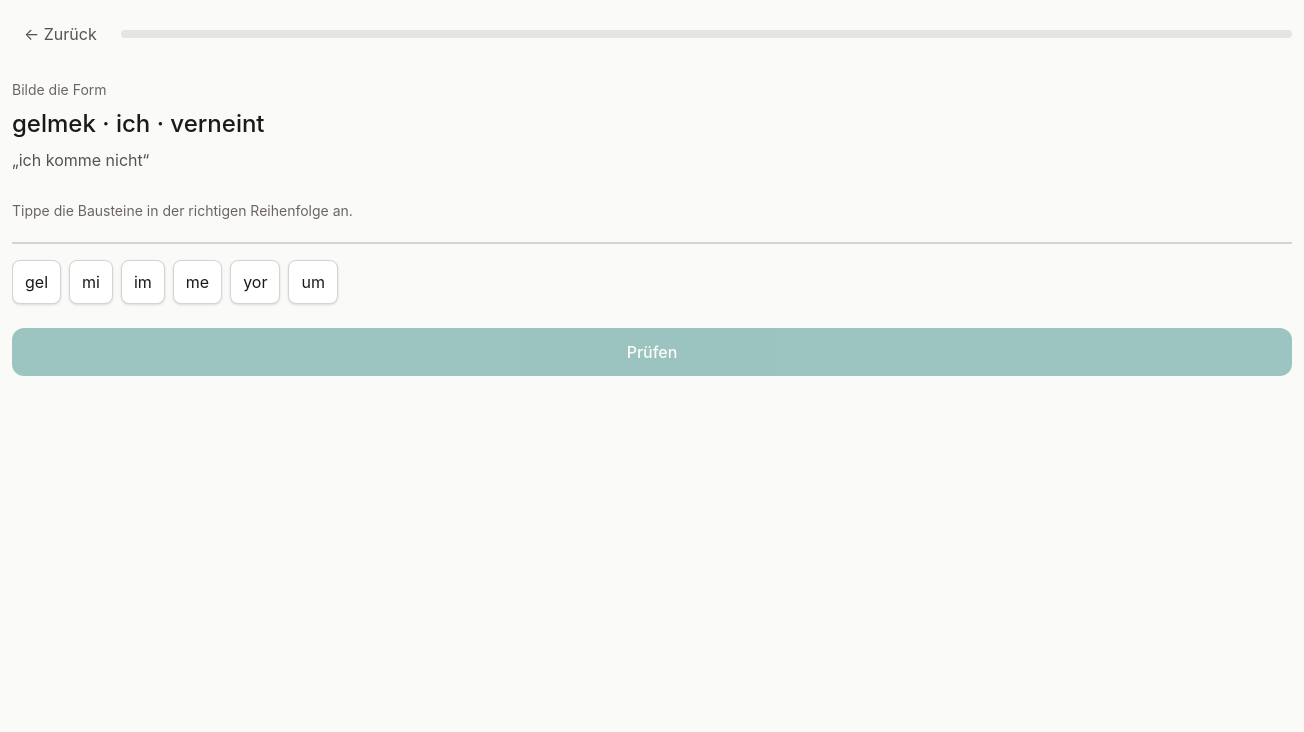
it: LessonRunner › Konjugation: verneinte Form bauen und Verengung begründen
expect the text "gelmek · ich · verneint" is shown: met, box [12, 109, 264, 138]
Click the button "gel" at (36, 282), box [12, 260, 61, 304]
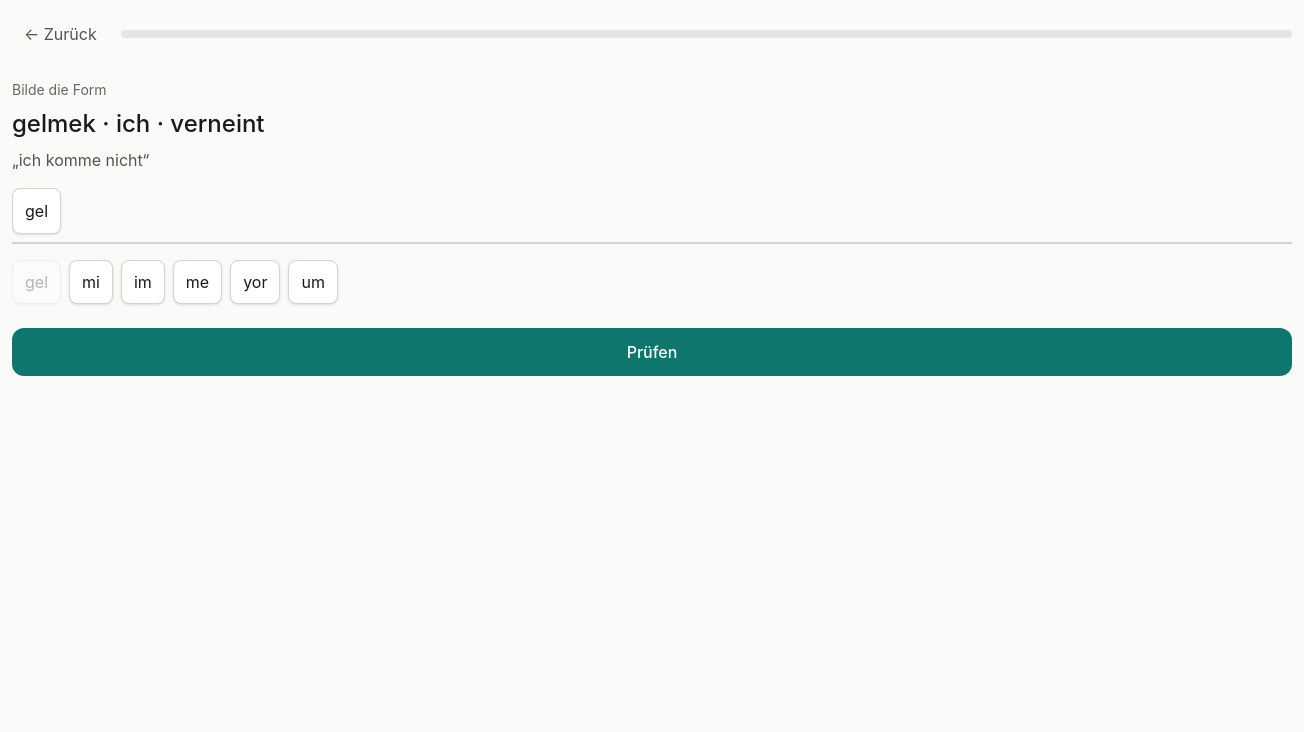
Click the button "mi" at (91, 282), box [69, 260, 113, 304]
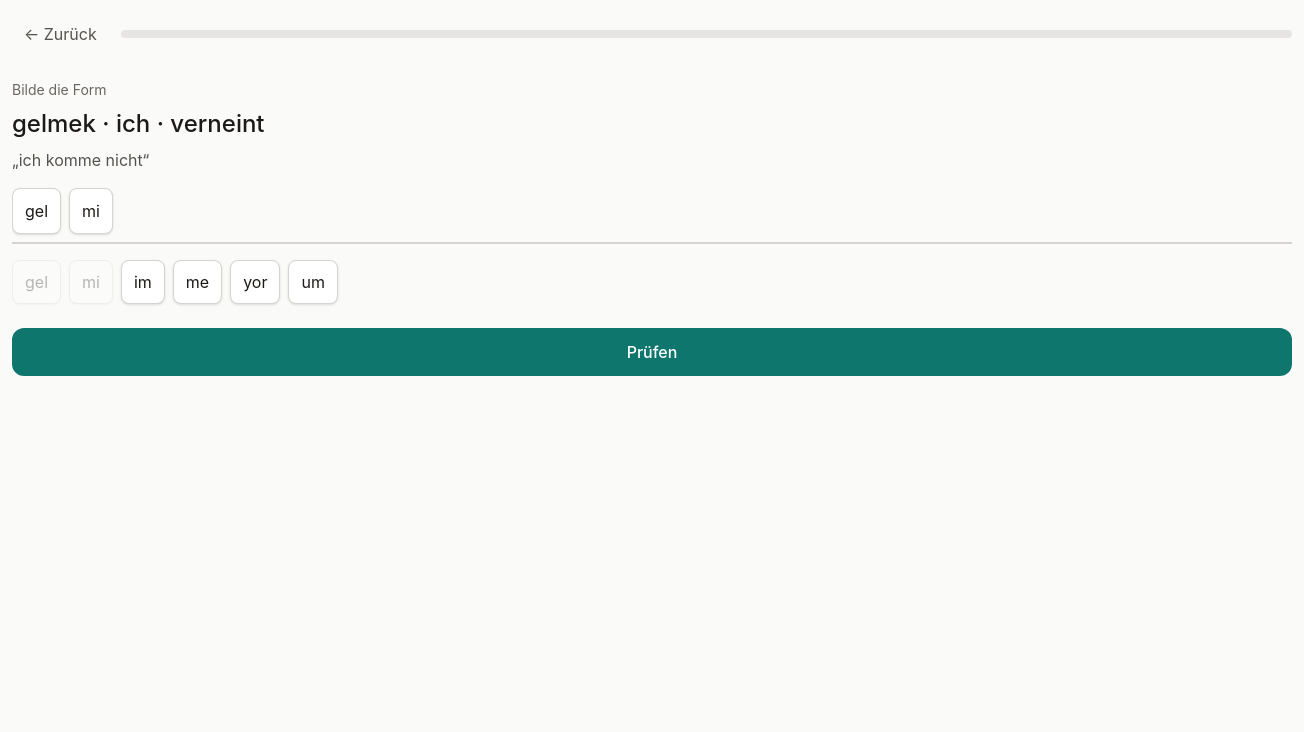
Click the button "yor" at (255, 282), box [230, 260, 280, 304]
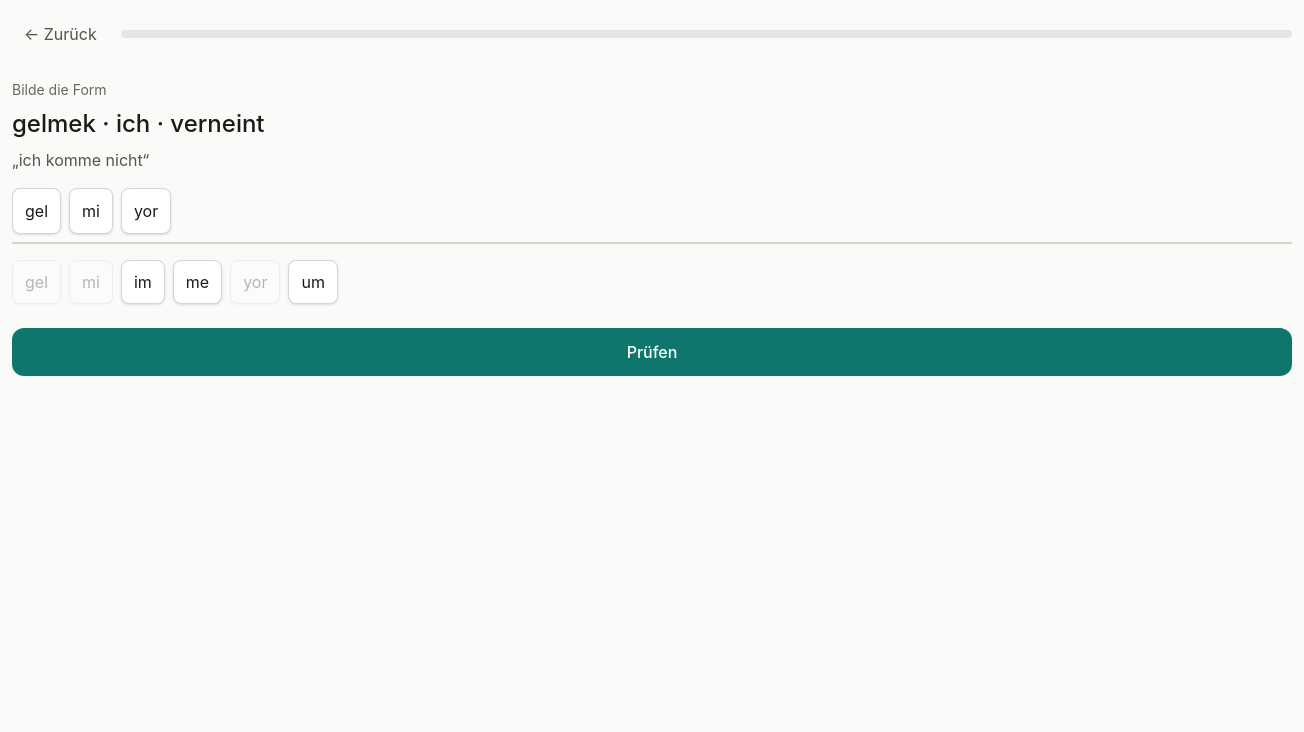
Click the button "um" at (313, 282), box [288, 260, 338, 304]
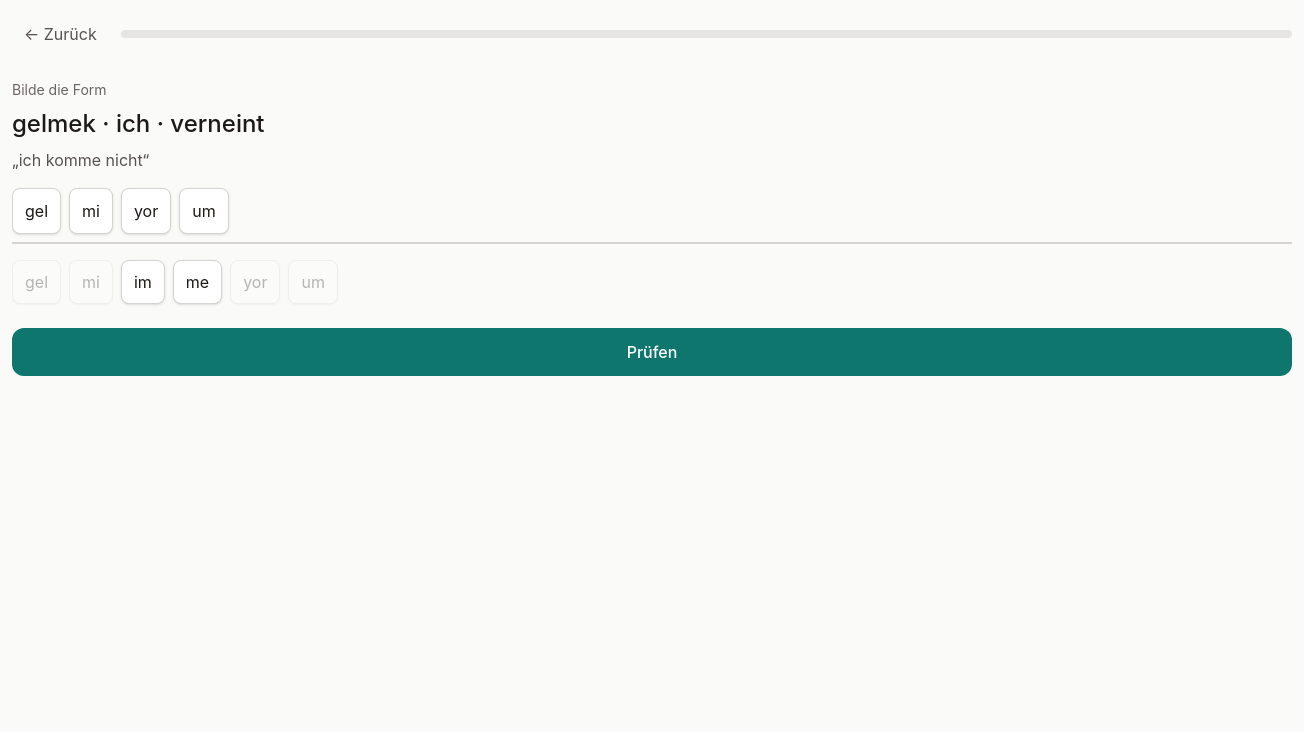
Click the button "Prüfen" at (652, 352), box [12, 328, 1292, 376]
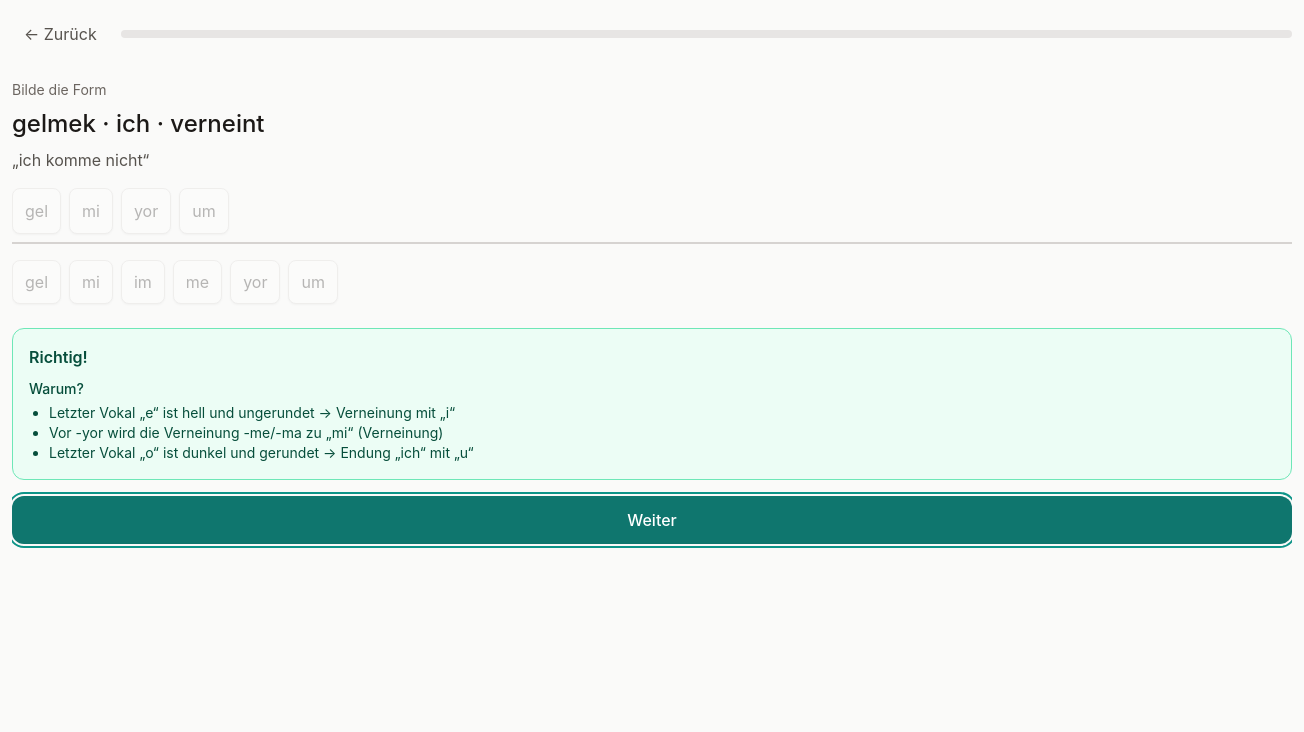
expect the message shows "Richtig!": met, box [29, 347, 88, 367]
expect the message shows "Vor -yor wird die Verneinung -me/-ma zu „mi“": met, box [49, 424, 444, 441]
